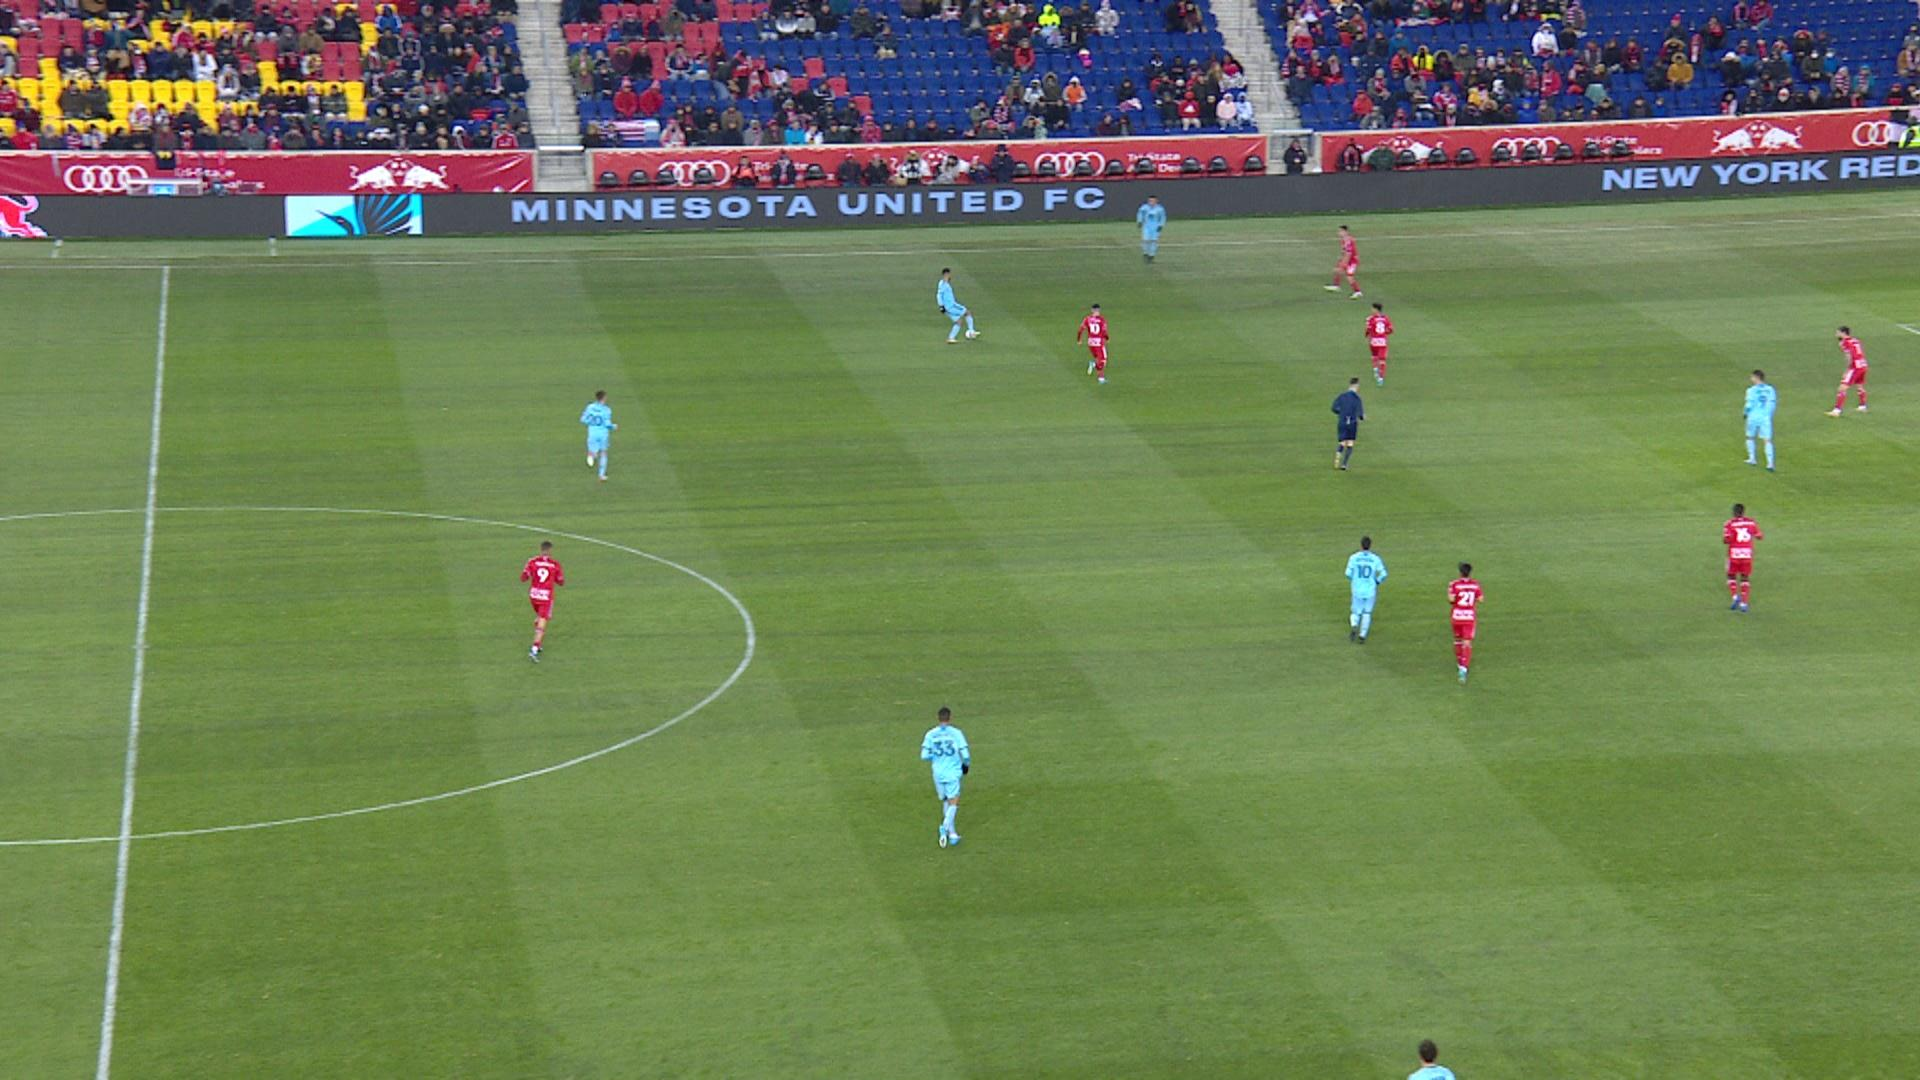football: (965, 329, 974, 339)
